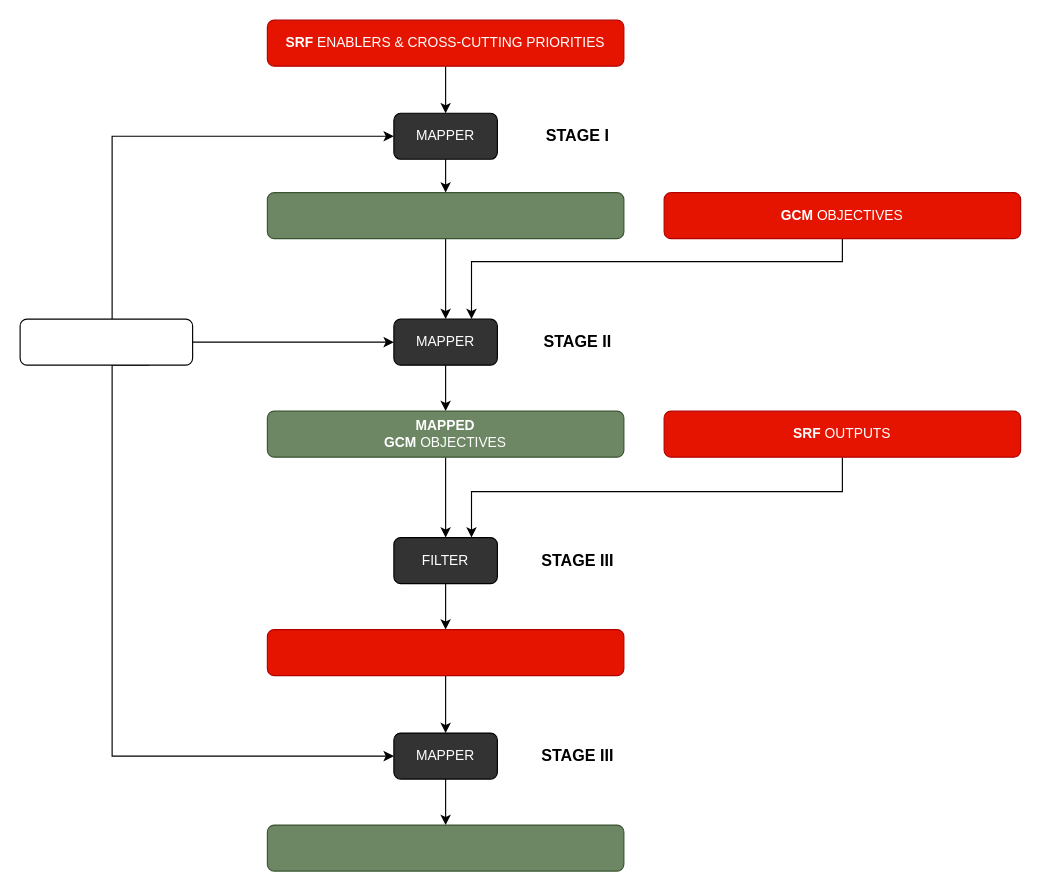
Image size: 1041x891. Some labels were removed from this diagram. The centre of each missing label's shape, as x and y in pixels:
FILTERED SRF OUTPUTS: pixel 445 652
MAPPED SRF ENABLERS & CROSS-CUTTING PRIORITIES: pixel 445 215
MAPPED SRF OUTPUTS: pixel 445 847
REPORT: pixel 106 341
